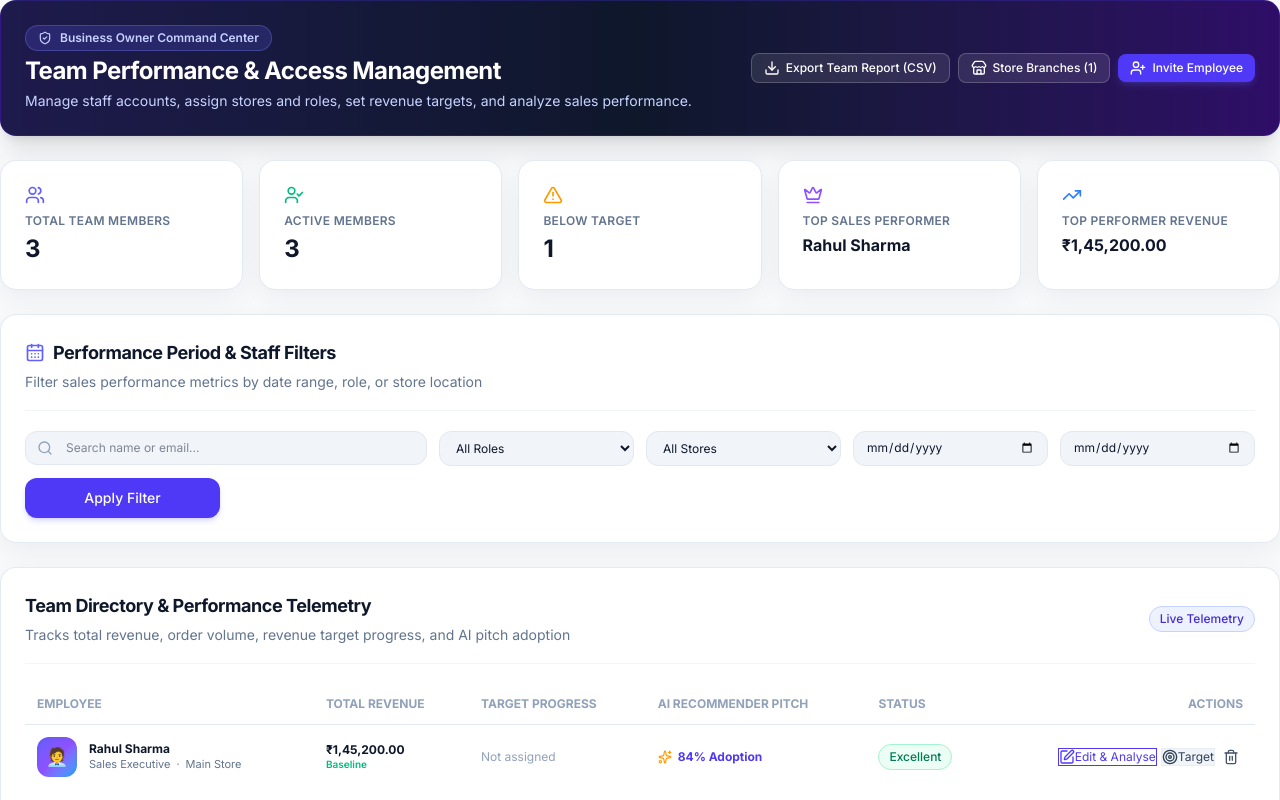
TeamManagementModule › opens employee edit and analyse modal when clicking Edit & Analyse button
The image size is (1280, 800).
expect the text "Edit & Analyse" is shown: met, box 1075,748 -> 1156,764
Click the button "Edit & Analyse".
click(1107, 756)  # box 1058,748 -> 1157,766
(page scrolled)
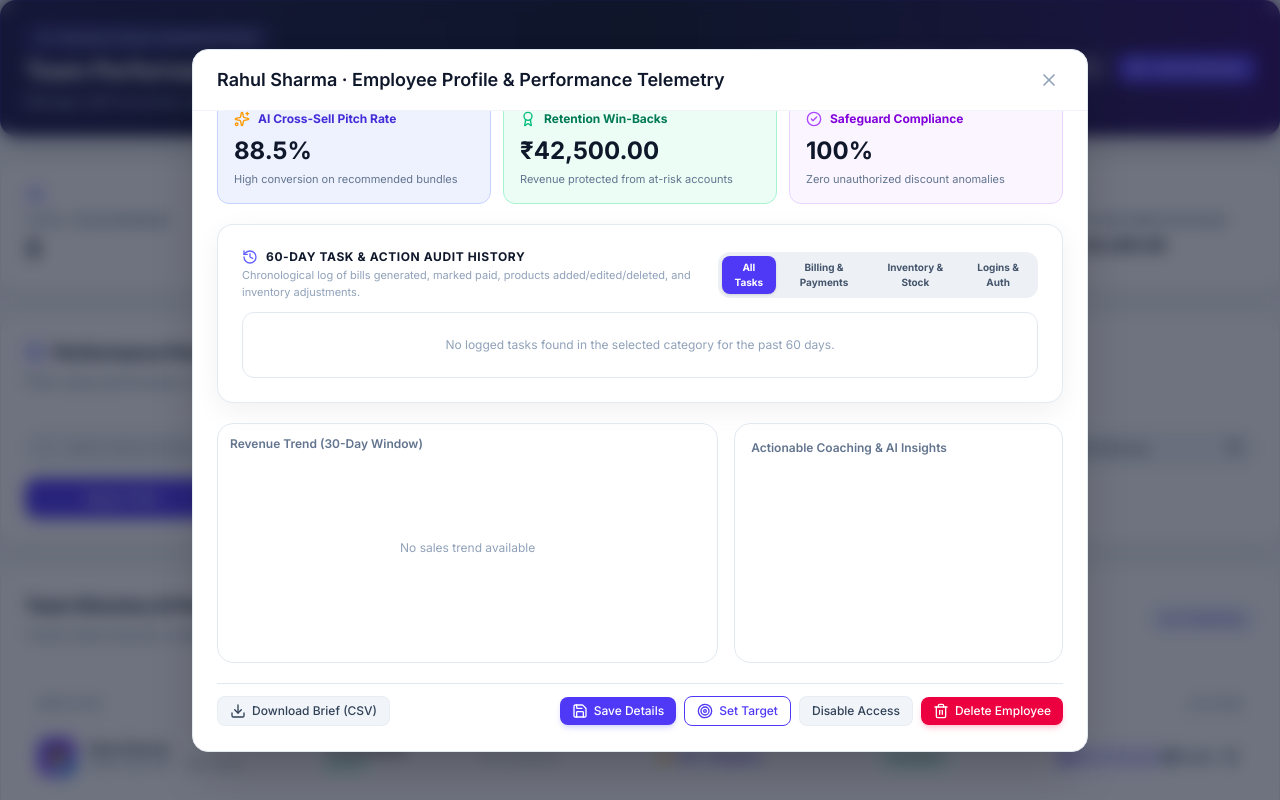
expect the text "Save Details" is shown: met, box 594,703 -> 664,719
expect the text "Delete Employee" is shown: met, box 955,703 -> 1051,719
